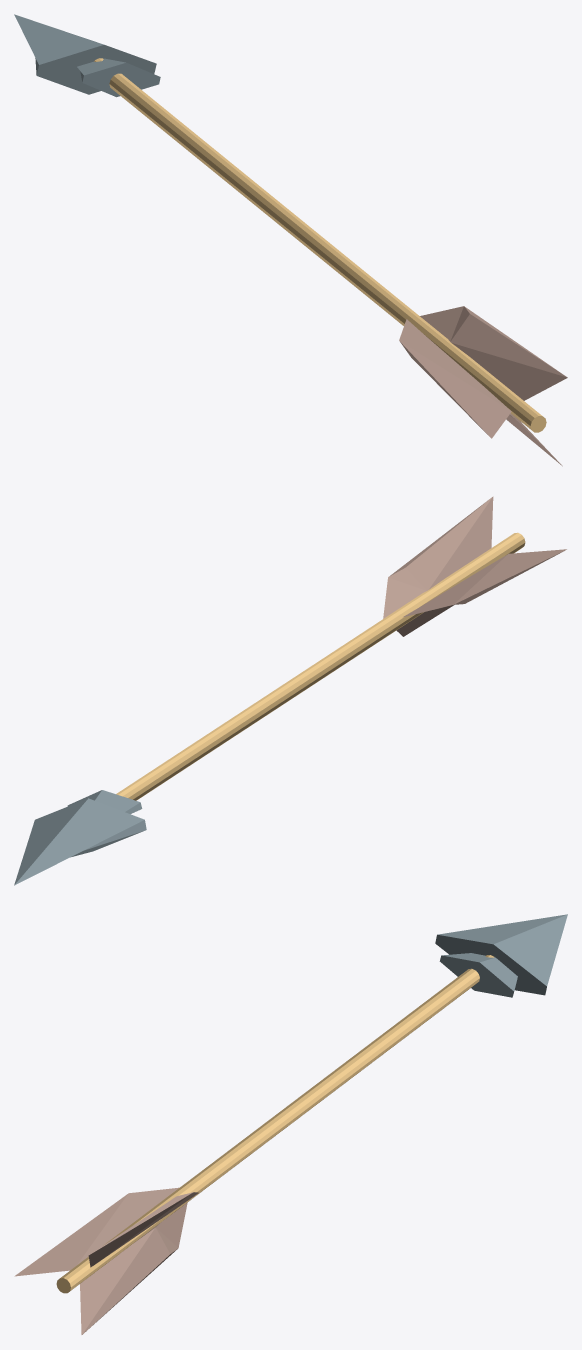
Rendered from arrow_2.glb.
The picture shows the model from 3 angles, top to bottom: view 1: azimuth 30°, elevation 25°; view 2: azimuth 150°, elevation 25°; view 3: azimuth 330°, elevation 25°; orthographic projection. The views are drawn at different scales.
Visible parts, largest first — view 1: group1782070870, group1946537963, group1053969853, group561470043, group517123668; view 2: group1782070870, group1053969853, group1946537963, group561470043, group517123668, group159609442; view 3: group1782070870, group1053969853, group159609442, group561470043, group517123668, group1946537963.
Boxes of the visible parts, left/top/right/bottom form: group1782070870: left=94, top=58, right=546, bottom=432; group1946537963: left=420, top=306, right=567, bottom=400; group1053969853: left=14, top=14, right=156, bottom=94; group561470043: left=399, top=319, right=511, bottom=438; group517123668: left=77, top=58, right=160, bottom=97; group1782070870: left=116, top=532, right=525, bottom=800; group1053969853: left=14, top=798, right=146, bottom=885; group1946537963: left=383, top=496, right=493, bottom=618; group561470043: left=403, top=549, right=566, bottom=617; group517123668: left=67, top=790, right=142, bottom=813; group159609442: left=396, top=605, right=453, bottom=636; group1782070870: left=56, top=955, right=494, bottom=1293; group1053969853: left=435, top=914, right=567, bottom=995; group159609442: left=80, top=1202, right=187, bottom=1334; group561470043: left=14, top=1187, right=178, bottom=1276; group517123668: left=439, top=953, right=517, bottom=997; group1946537963: left=88, top=1192, right=198, bottom=1267.
Bounding box in the file's own units: 0.0742 × 0.0532 × 0.5661.
